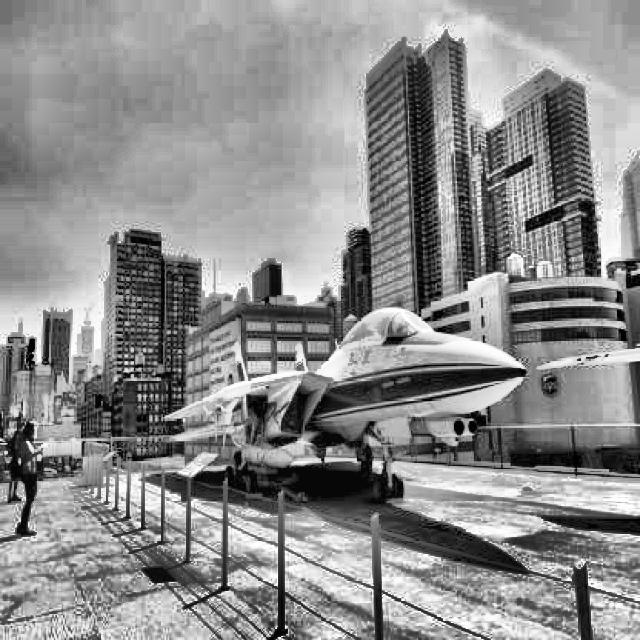F14: (162, 308, 527, 503)
